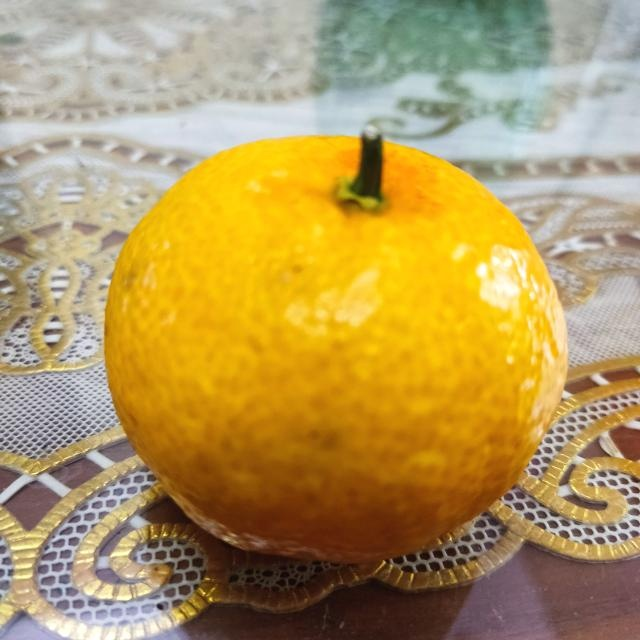agrume: (100, 133, 568, 567)
